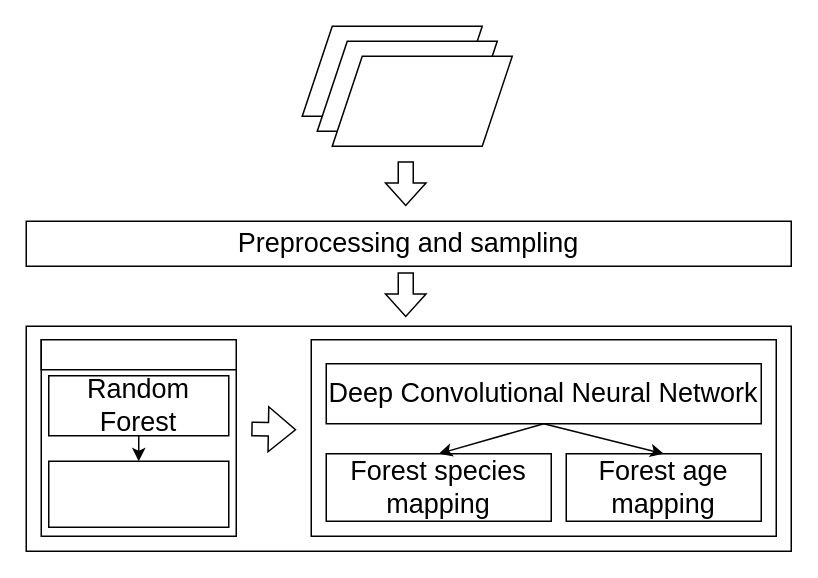
Image size: 818x578. Some labels were removed from this diagram. The shapes that lost their labels are listed below. From the top down, each one's centre as x and y in pixels, then its label:
At point 421,100: "Sentinel 1/2 - A/B".
At point 138,354: "GEE".
At point 138,493: "Forest mapping".
